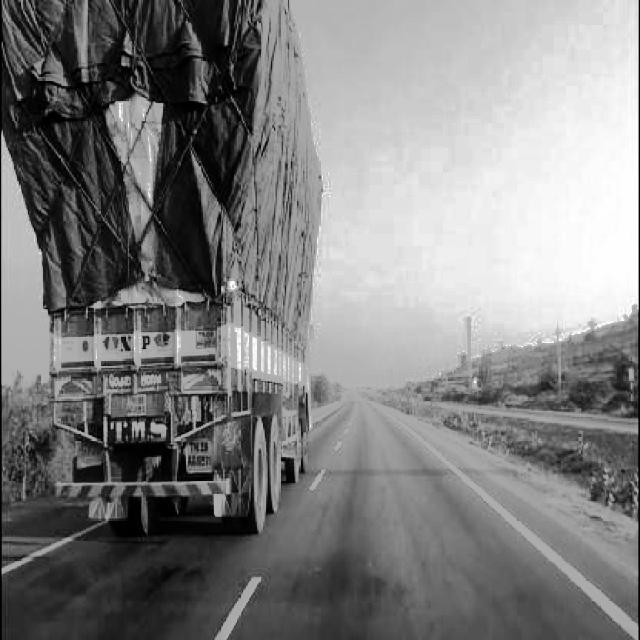HCV: (31, 196, 339, 512)
